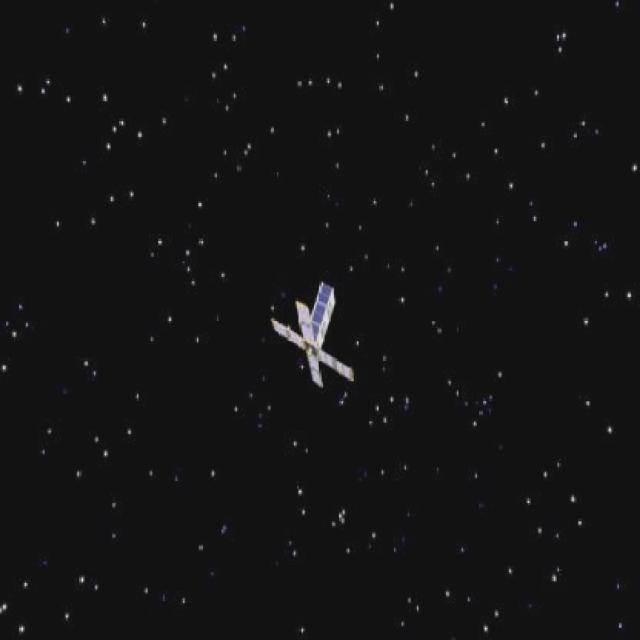medium_debris: (267, 281, 359, 388)
